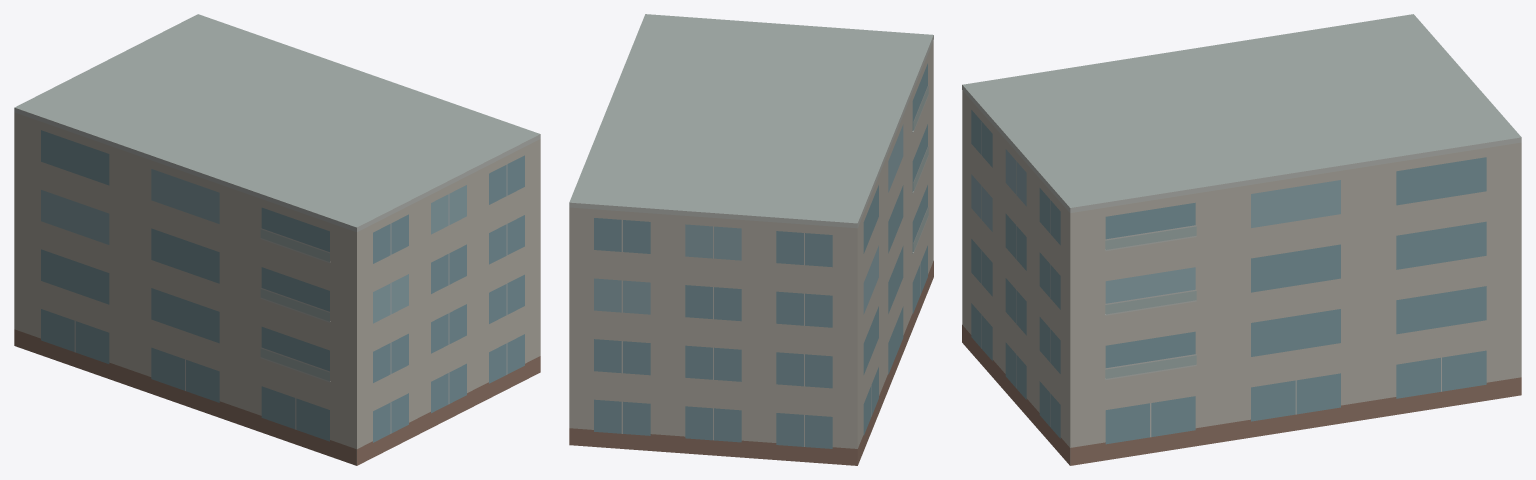
Rendered from residential-7f593efa-de1a-41bf-9df2-e580a2e211e6.glb.
The picture shows the model from 3 angles, left to right: view 1: azimuth 30°, elevation 25°; view 2: azimuth 150°, elevation 25°; view 3: azimuth 270°, elevation 25°; orthographic projection. The views are drawn at different scales.
Visible parts, largest first — view 1: residential-7f593efa-de1a-41bf-9df2-e580a2e211e6.tmp; view 2: residential-7f593efa-de1a-41bf-9df2-e580a2e211e6.tmp; view 3: residential-7f593efa-de1a-41bf-9df2-e580a2e211e6.tmp.
Boxes of the visible parts, x1,y1,x2,y2 form: residential-7f593efa-de1a-41bf-9df2-e580a2e211e6.tmp: [14, 14, 540, 465]; residential-7f593efa-de1a-41bf-9df2-e580a2e211e6.tmp: [569, 14, 933, 465]; residential-7f593efa-de1a-41bf-9df2-e580a2e211e6.tmp: [962, 14, 1521, 465].
Bounding box in the file's own units: 19.7 × 12.2 × 24.
